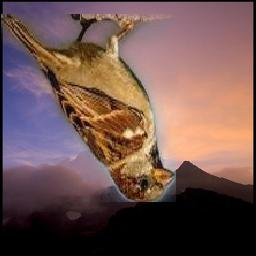Sparrow: (2, 14, 177, 202)
